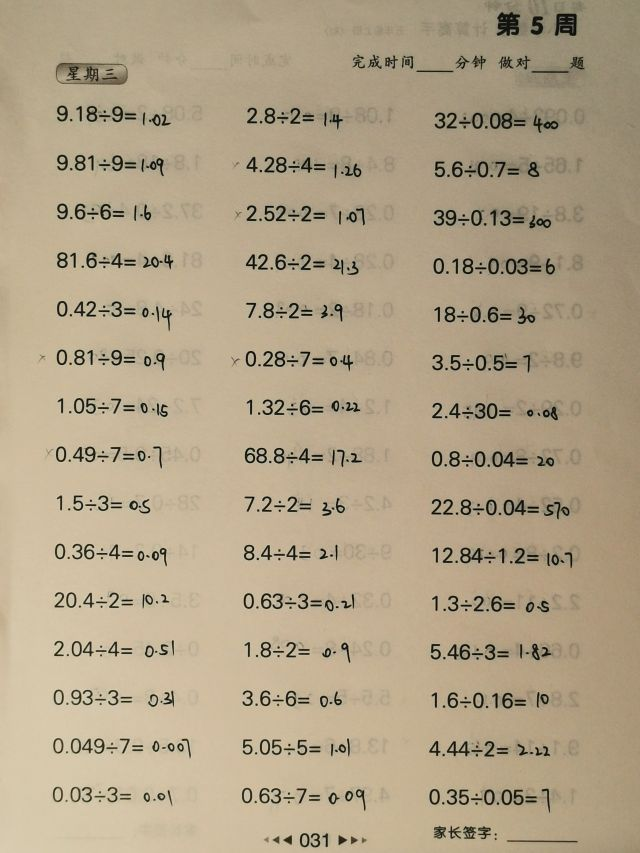equation: (418, 779, 557, 816), (51, 297, 174, 332), (51, 343, 170, 377), (429, 542, 576, 569), (237, 784, 369, 814), (49, 735, 195, 761), (427, 494, 573, 520), (52, 100, 173, 131), (233, 200, 368, 227), (231, 152, 366, 179), (430, 107, 562, 134), (229, 345, 356, 372), (52, 442, 166, 472), (428, 398, 561, 423), (428, 253, 558, 278), (49, 685, 178, 710), (48, 782, 176, 807), (240, 638, 354, 666), (241, 250, 363, 276), (52, 150, 169, 177), (429, 205, 555, 230), (50, 540, 171, 566), (428, 447, 559, 471), (240, 444, 365, 469), (53, 248, 177, 273), (426, 737, 555, 761), (427, 640, 556, 664), (239, 589, 358, 615), (50, 637, 178, 661), (53, 393, 171, 419), (428, 591, 554, 615), (428, 688, 553, 712), (51, 589, 173, 613), (243, 396, 365, 420), (243, 102, 347, 130), (238, 734, 353, 759), (239, 492, 349, 518), (431, 157, 544, 182), (242, 297, 346, 324), (431, 303, 540, 328), (52, 198, 155, 224), (52, 490, 154, 516), (429, 351, 534, 376), (239, 686, 347, 710), (240, 541, 342, 565)
